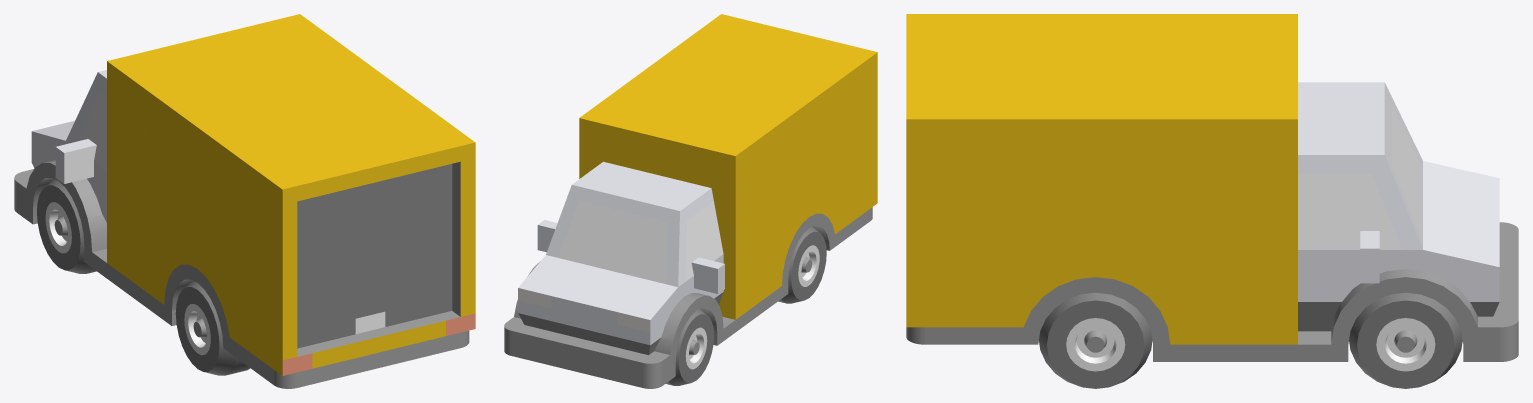
File: delivery.glb
The picture shows the model from 3 angles, left to right: view 1: azimuth 30°, elevation 25°; view 2: azimuth 150°, elevation 25°; view 3: azimuth 270°, elevation 25°; orthographic projection. The views are drawn at different scales.
Parts seen in each view (by area): view 1: body, door, wheel_backLeft, wheel_frontLeft; view 2: body, wheel_backLeft, wheel_frontLeft; view 3: body, wheel_backRight, wheel_frontRight.
Boxes of the visible parts, x1,y1,x2,y2 form: body: (14, 14, 475, 388); door: (297, 164, 452, 348); wheel_backLeft: (175, 281, 250, 375); wheel_frontLeft: (37, 179, 96, 273); body: (504, 14, 877, 388); wheel_backLeft: (778, 226, 826, 303); wheel_frontLeft: (666, 309, 714, 385); body: (906, 14, 1518, 361); wheel_backRight: (1039, 292, 1152, 388); wheel_frontRight: (1349, 292, 1462, 388).
Bounding box in the file's own units: 1.5 × 1.6 × 3.2.
